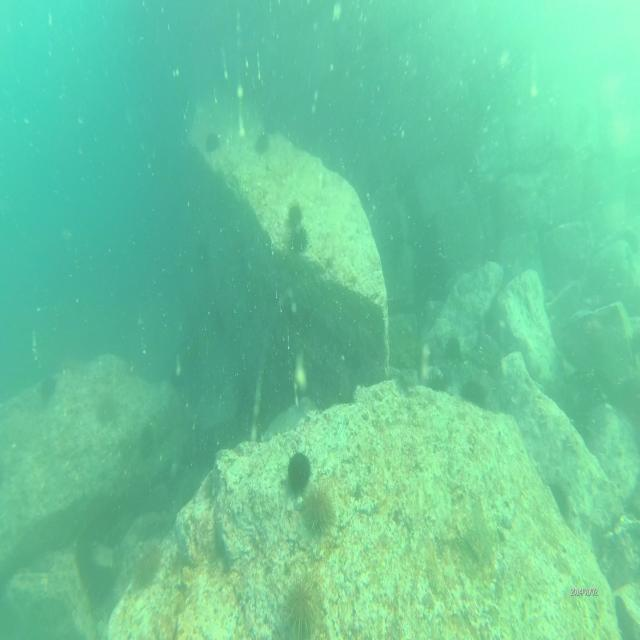echinus: (277, 574, 325, 637), (301, 487, 336, 538), (130, 551, 162, 589), (286, 449, 312, 490), (465, 372, 488, 408), (290, 226, 308, 252), (205, 129, 221, 155), (288, 199, 302, 228), (449, 334, 461, 361), (256, 134, 270, 156)
